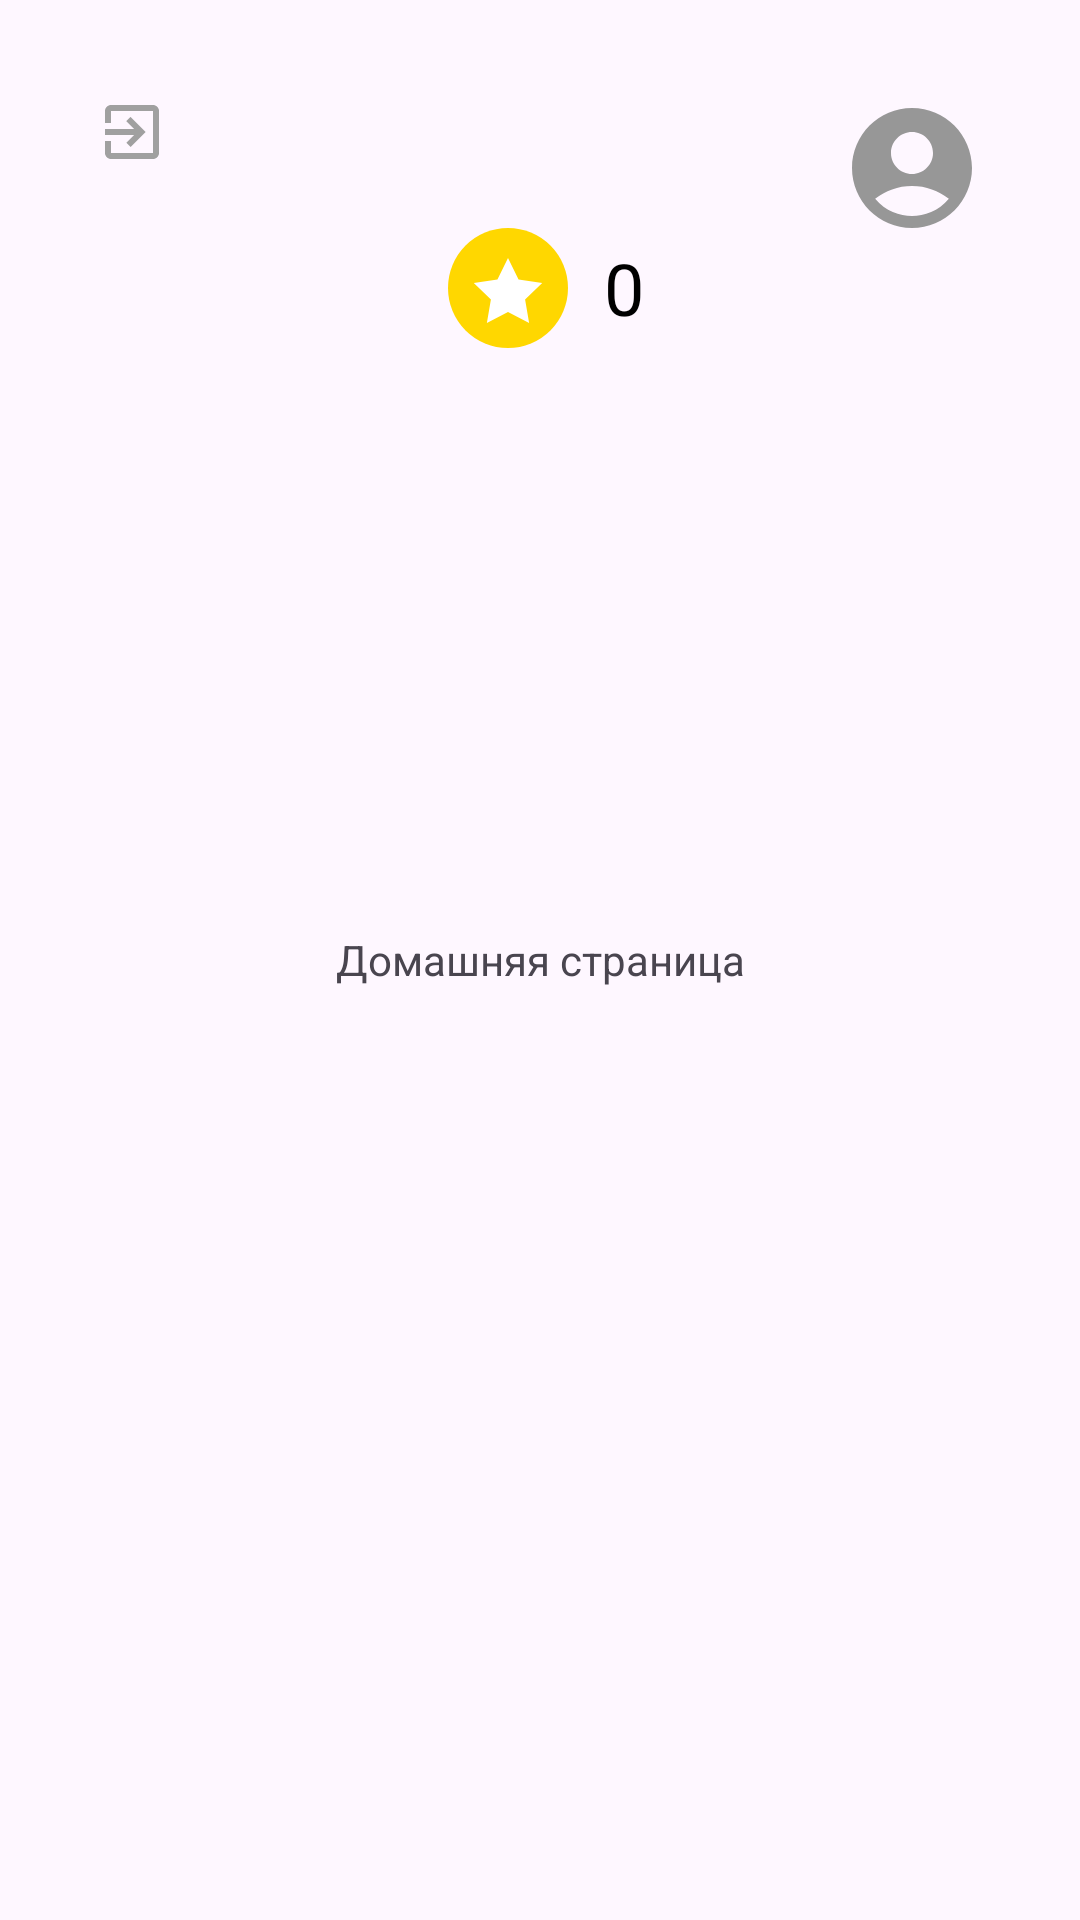

Locate icon controls on the screen. Image size 1080px x 1920px, boxes as (x1, y1, x2, y2).
account circle: (852, 108, 972, 228)
exit to app: (105, 105, 159, 159)
Star Coin: (448, 228, 568, 348)
